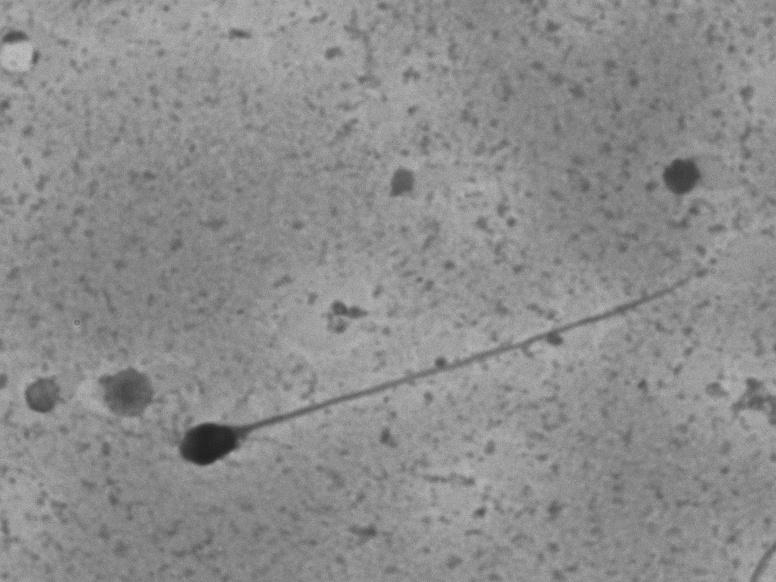Normal: (158, 248, 718, 477)
